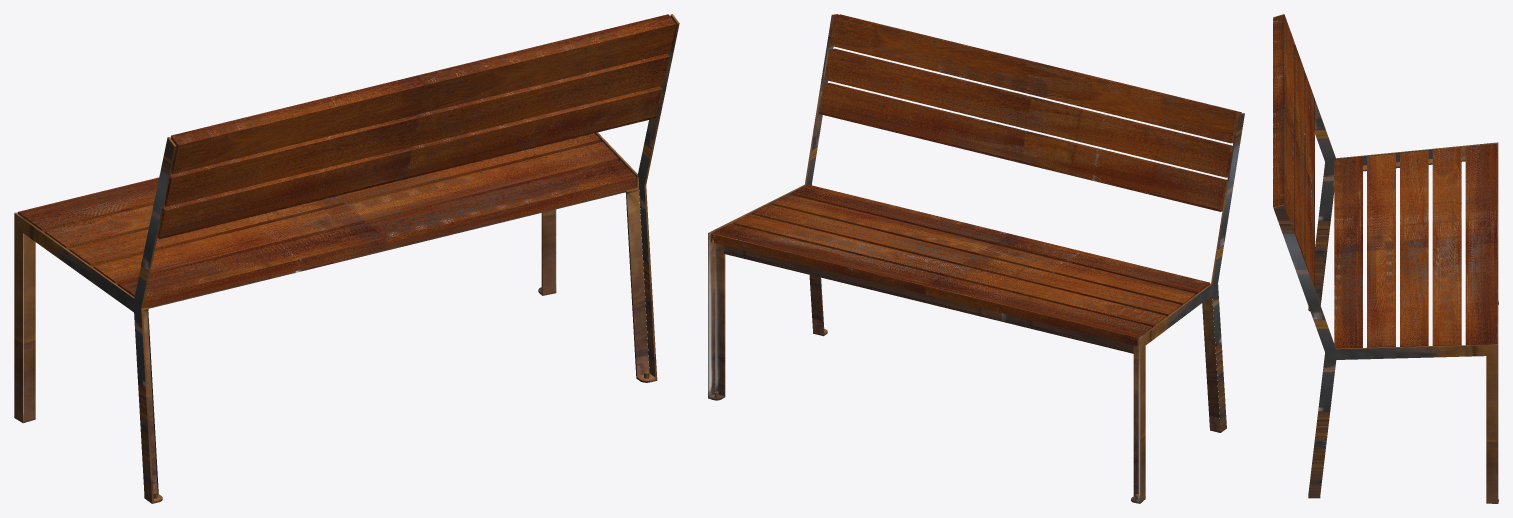
The picture shows the model from 3 angles, left to right: view 1: azimuth 30°, elevation 25°; view 2: azimuth 150°, elevation 25°; view 3: azimuth 270°, elevation 25°; orthographic projection. The views are drawn at different scales.
Parts seen in each view (by area): view 1: mesh9_mesh9-geometry, mesh6_mesh6-geometry, mesh7_mesh7-geometry, mesh5_mesh5-geometry, mesh8_mesh8-geometry, mesh11_mesh11-geometry, mesh10_mesh10-geometry, mesh16_mesh16-geometry, mesh4_mesh4-geometry, mesh1_mesh1-geometry, mesh14_mesh14-geometry, mesh19_mesh19-geometry (+1 smaller); view 2: mesh9_mesh9-geometry, mesh6_mesh6-geometry, mesh7_mesh7-geometry, mesh4_mesh4-geometry, mesh1_mesh1-geometry, mesh10_mesh10-geometry, mesh8_mesh8-geometry, mesh5_mesh5-geometry, mesh11_mesh11-geometry, mesh16_mesh16-geometry, mesh3_mesh3-geometry, mesh14_mesh14-geometry (+1 smaller); view 3: mesh4_mesh4-geometry, mesh1_mesh1-geometry, mesh16_mesh16-geometry, mesh10_mesh10-geometry, mesh8_mesh8-geometry, mesh5_mesh5-geometry, mesh9_mesh9-geometry, mesh11_mesh11-geometry, mesh6_mesh6-geometry, mesh7_mesh7-geometry, mesh19_mesh19-geometry, mesh14_mesh14-geometry.
Part boxes in pixels (x1,y1,x2,y2): mesh9_mesh9-geometry: (170, 14, 675, 173); mesh6_mesh6-geometry: (157, 86, 662, 239); mesh7_mesh7-geometry: (164, 53, 669, 206); mesh5_mesh5-geometry: (118, 160, 636, 308); mesh8_mesh8-geometry: (93, 142, 618, 284); mesh11_mesh11-geometry: (14, 212, 162, 503); mesh10_mesh10-geometry: (69, 133, 600, 267); mesh16_mesh16-geometry: (538, 132, 657, 382); mesh4_mesh4-geometry: (17, 177, 159, 232); mesh1_mesh1-geometry: (45, 205, 153, 249); mesh14_mesh14-geometry: (134, 137, 176, 307); mesh19_mesh19-geometry: (637, 14, 679, 185); mesh9_mesh9-geometry: (829, 14, 1241, 143); mesh6_mesh6-geometry: (819, 83, 1227, 211); mesh7_mesh7-geometry: (824, 48, 1232, 177); mesh4_mesh4-geometry: (710, 224, 1151, 346); mesh1_mesh1-geometry: (732, 214, 1166, 327); mesh10_mesh10-geometry: (752, 204, 1180, 316); mesh8_mesh8-geometry: (772, 194, 1195, 305); mesh5_mesh5-geometry: (791, 184, 1210, 294); mesh11_mesh11-geometry: (1131, 283, 1226, 503); mesh16_mesh16-geometry: (708, 184, 827, 400); mesh3_mesh3-geometry: (724, 245, 1133, 353); mesh14_mesh14-geometry: (1211, 113, 1244, 283); mesh4_mesh4-geometry: (1465, 143, 1498, 345); mesh1_mesh1-geometry: (1432, 147, 1461, 345); mesh16_mesh16-geometry: (1308, 344, 1498, 503); mesh10_mesh10-geometry: (1400, 150, 1428, 346); mesh8_mesh8-geometry: (1367, 153, 1395, 347); mesh5_mesh5-geometry: (1334, 157, 1362, 348); mesh9_mesh9-geometry: (1273, 15, 1293, 228); mesh11_mesh11-geometry: (1308, 142, 1498, 311); mesh6_mesh6-geometry: (1303, 73, 1314, 286); mesh7_mesh7-geometry: (1293, 44, 1304, 257); mesh19_mesh19-geometry: (1273, 204, 1335, 352); mesh14_mesh14-geometry: (1273, 14, 1335, 161).
Bounding box in the file's own units: 0.7706 × 0.5238 × 0.363.
